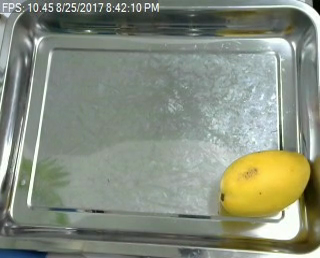Mango: (216, 147, 313, 219)
